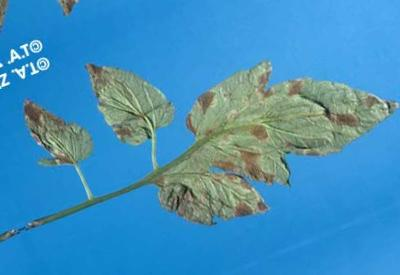Tomato mold leaf: (122, 15, 400, 256), (68, 38, 184, 163), (9, 83, 99, 181)
